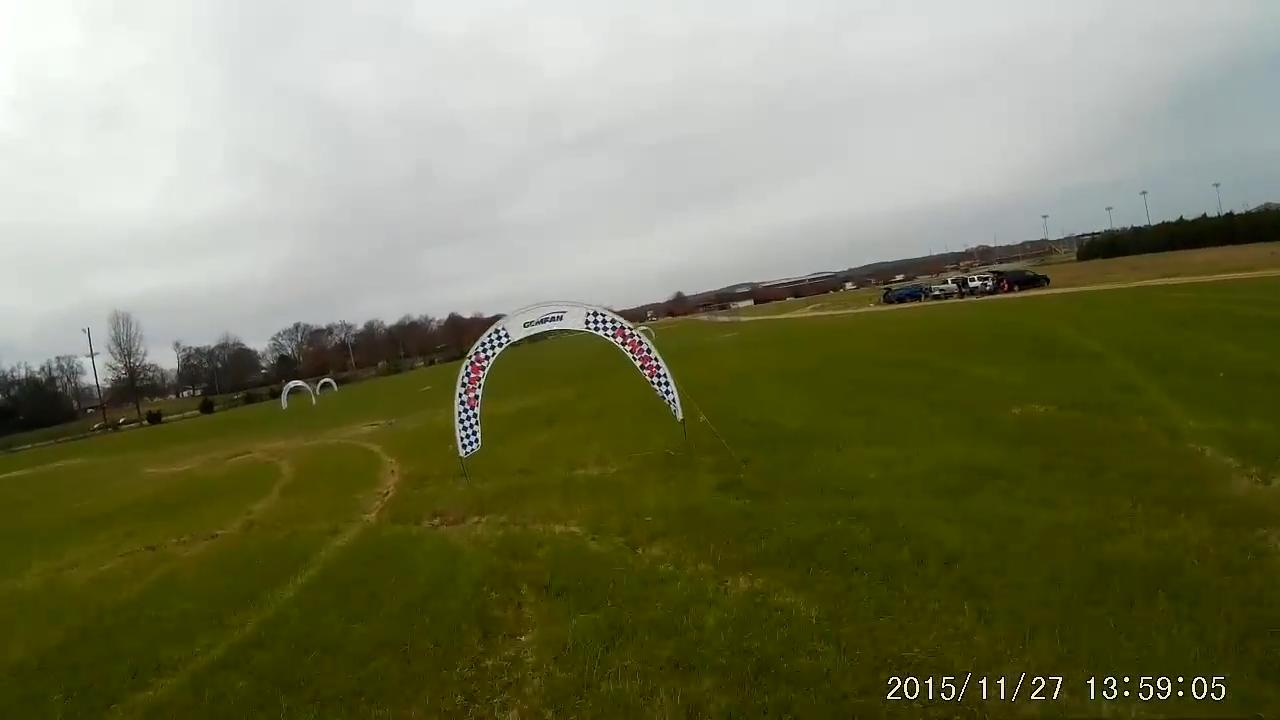gate: (451, 302, 679, 458)
